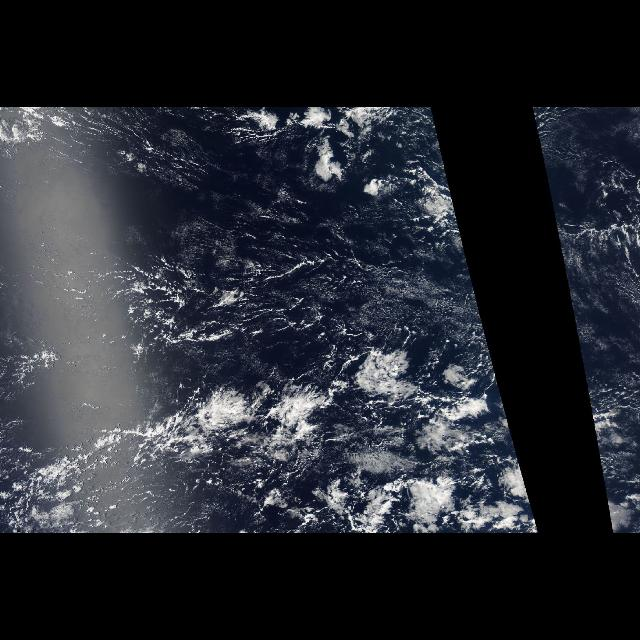Flower: (196, 359, 536, 533)
Gravel: (18, 125, 446, 371)
Sugar: (336, 245, 492, 359)
